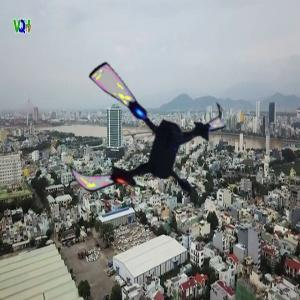drone: (57, 58, 225, 226)
